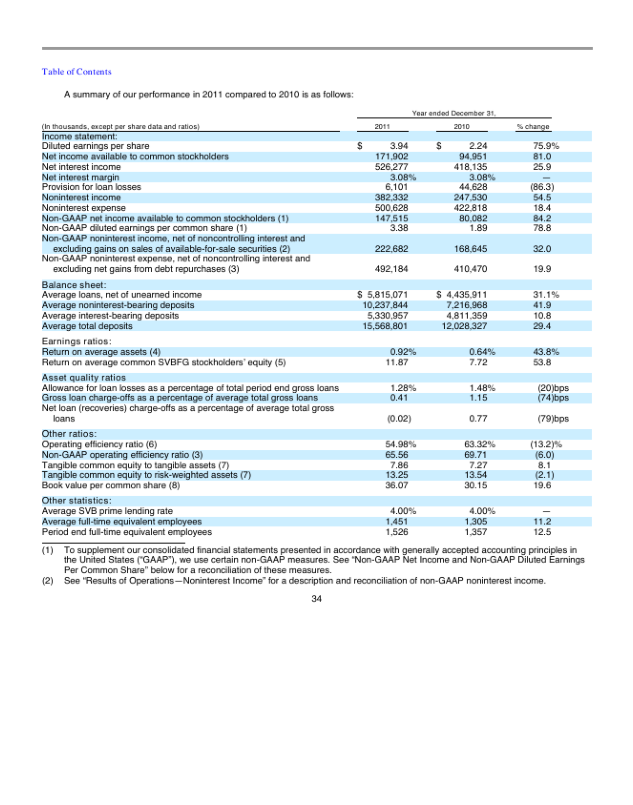table: (350, 107, 592, 539)
